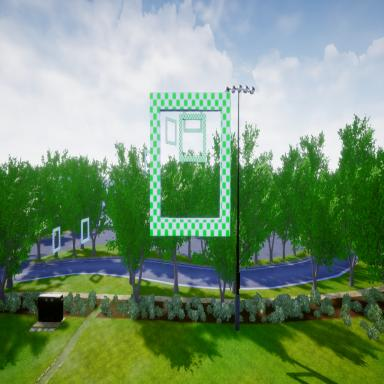gate: (148, 90, 231, 240), (179, 113, 206, 163), (165, 115, 177, 147)
